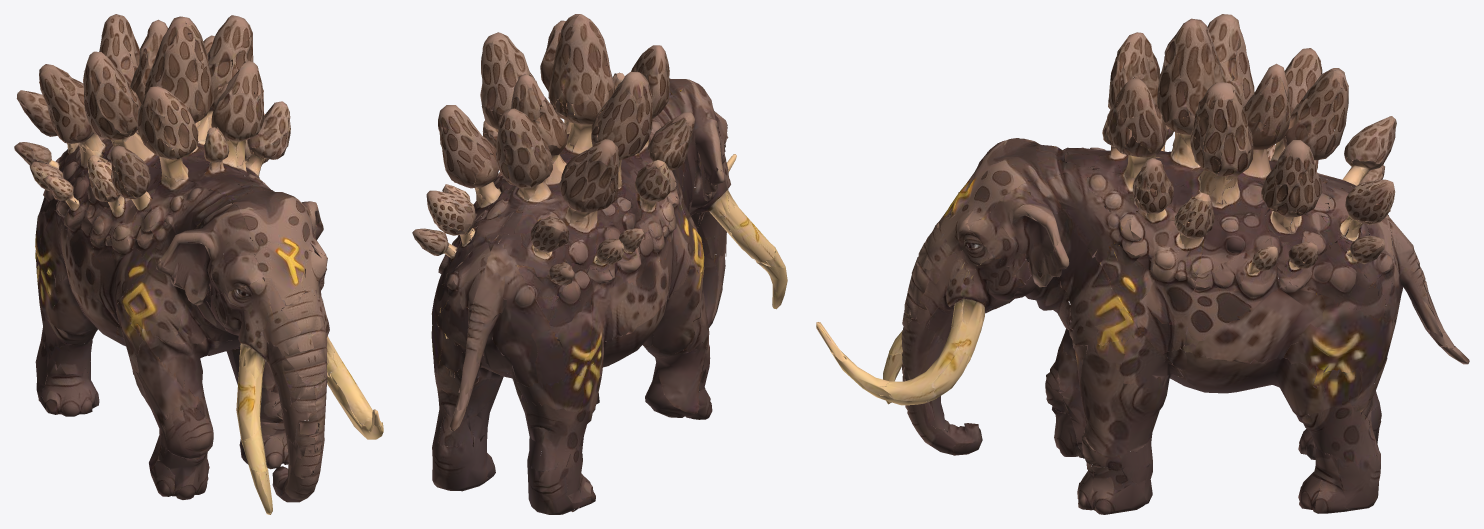
3 renders of one model, left to right at view 1: azimuth 30°, elevation 25°; view 2: azimuth 150°, elevation 25°; view 3: azimuth 270°, elevation 25°, orthographic. The views are drawn at different scales.
Parts seen in each view (by area): view 1: Mesh_0; view 2: Mesh_0; view 3: Mesh_0.
Part boxes in pixels (left/top/right/bottom): Mesh_0: left=14, top=14, right=383, bottom=514; Mesh_0: left=412, top=14, right=787, bottom=514; Mesh_0: left=816, top=14, right=1469, bottom=514.
Bounding box in the file's own units: 0.7297 × 1.48 × 1.92.
1 material, 1 textured.
